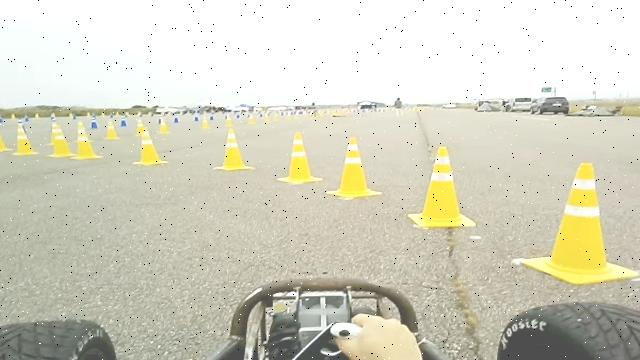yellow cone: (407, 146, 476, 228), (326, 136, 382, 198), (276, 131, 323, 184), (213, 127, 254, 171), (132, 126, 167, 165), (75, 121, 101, 159), (49, 125, 77, 160), (12, 124, 38, 156), (0, 123, 12, 152)
